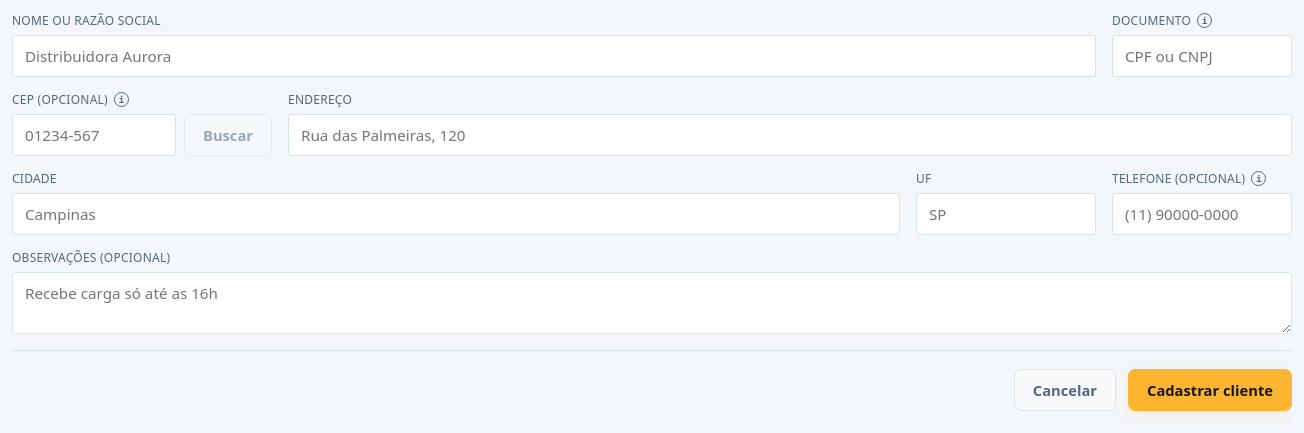
Scenario: CustomerForm › aplica a máscara no telefone
The image size is (1304, 433).
Type "42999998888" into the field labelled "TELEFONE (OPCIONAL)" at coordinates (1202, 214), box [1112,193,1292,235]
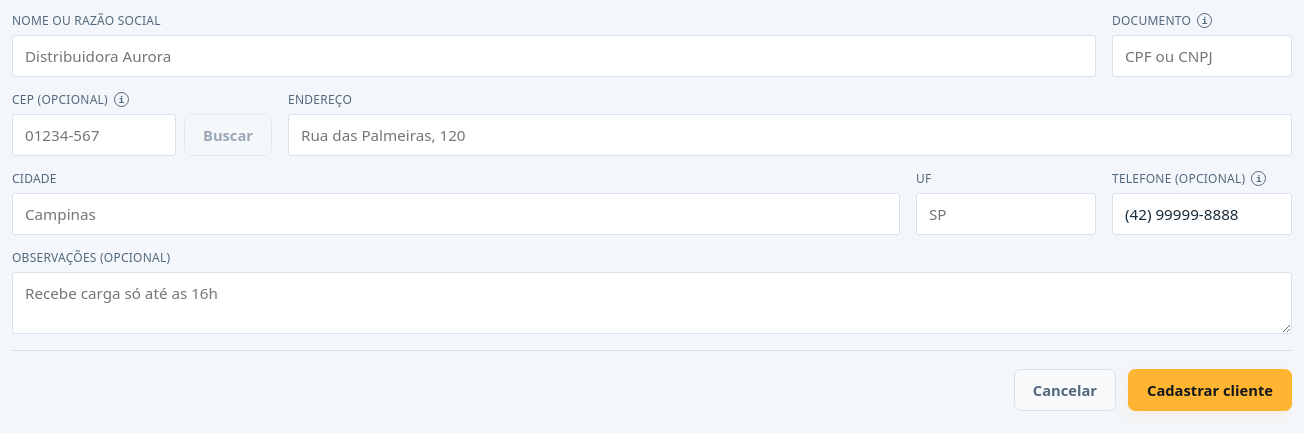
Check: the field labelled "TELEFONE (OPCIONAL)" holds "(42) 99999-8888", box [1112,193,1292,235]
